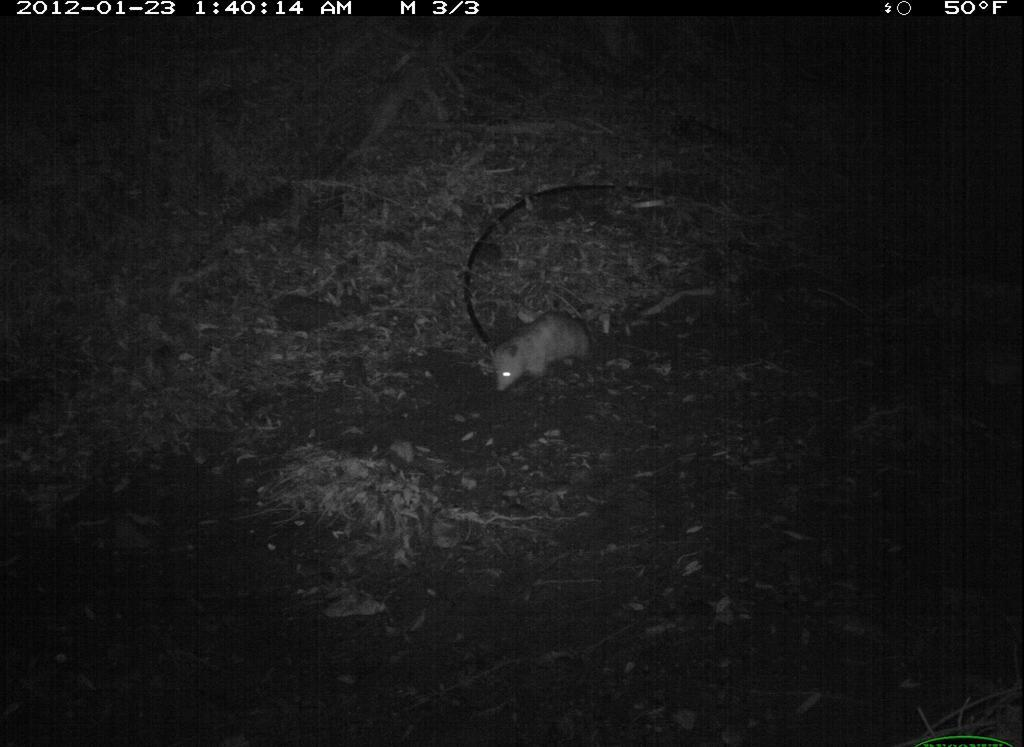opossum: (455, 311, 610, 394)
